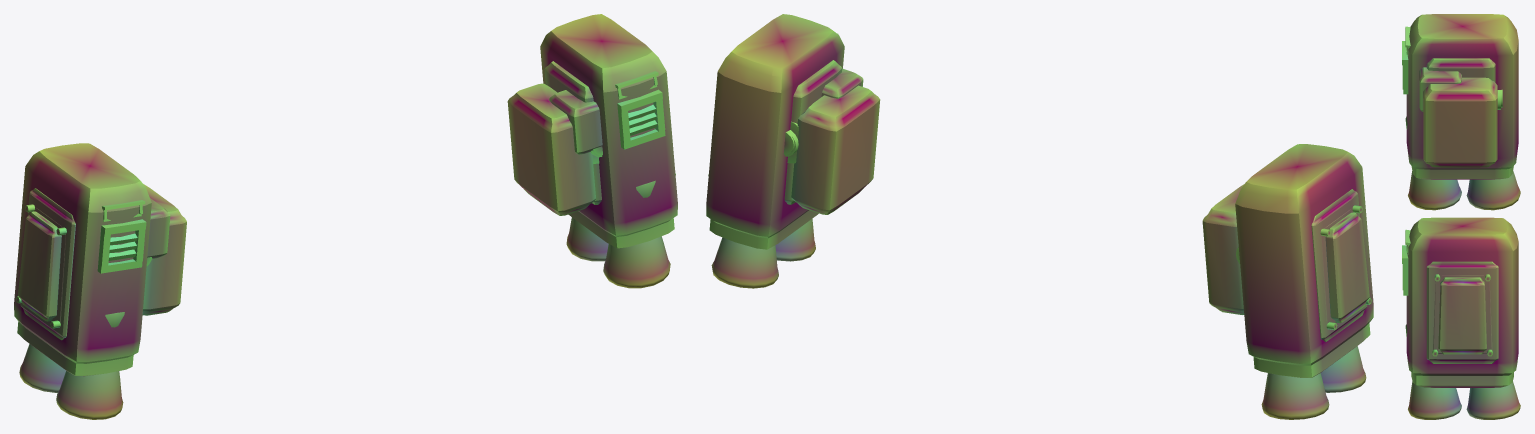
Rendered from llm_gen_leg_thrusters_072_a89f3d.glb.
3 renders of one model, left to right at view 1: azimuth 30°, elevation 25°; view 2: azimuth 150°, elevation 25°; view 3: azimuth 270°, elevation 25°, orthographic. The views are drawn at different scales.
Visible parts, largest first — view 1: hover_cowling_armor_1_barrel_metal_l, hover_cowling_armor_1_barrel_metal_r, adapter_calf_clamp_r, hover_flank_panel_5_cobalt_anodized_l, adapter_calf_clamp_l, hover_bell_fwd_7_vernier_bell_vernier_l, hover_bell_fwd_7_vernier_bell_vernier_r, adapter_sub_hover_flank_dark_4_adapter_dark_l, adapter_leg_knee_mount_dark_9_adapter_dark_r, adapter_sub_hover_manifold_dark_6_adapter_dark_l, adapter_sub_hover_intake_grille_2_dark_r, adapter_sub_hover_intake_grille_2_dark_l (+7 smaller); view 2: hover_cowling_armor_1_barrel_metal_l, hover_cowling_armor_1_barrel_metal_r, adapter_calf_clamp_r, hover_flank_panel_5_cobalt_anodized_l, adapter_calf_clamp_l, hover_bell_aft_8_vernier_bell_vernier_l, hover_bell_aft_8_vernier_bell_vernier_r, adapter_sub_hover_flank_dark_4_adapter_dark_l, hover_core_mount_0_adapter_dark_r, adapter_sub_hover_manifold_dark_6_adapter_dark_l, hover_bell_fwd_7_vernier_bell_vernier_l, adapter_sub_hover_manifold_dark_6_adapter_dark_r (+2 smaller); view 3: hover_cowling_armor_1_barrel_metal_r, hover_cowling_armor_1_barrel_metal_l, adapter_calf_clamp_l, hover_flank_panel_5_cobalt_anodized_r, adapter_sub_hover_flank_dark_4_adapter_dark_r, hover_bell_aft_8_vernier_bell_vernier_r, hover_bell_fwd_7_vernier_bell_vernier_r, hover_bell_aft_8_vernier_bell_vernier_l, hover_bell_fwd_7_vernier_bell_vernier_l, adapter_sub_hover_manifold_dark_6_adapter_dark_r, hover_core_mount_0_adapter_dark_l, adapter_sub_hover_manifold_dark_6_adapter_dark_l (+4 smaller).
Part boxes in pixels (left/top/right/bottom): hover_cowling_armor_1_barrel_metal_l: left=14, top=143, right=151, bottom=363; hover_cowling_armor_1_barrel_metal_r: left=540, top=14, right=677, bottom=236; adapter_calf_clamp_r: left=507, top=83, right=599, bottom=215; hover_flank_panel_5_cobalt_anodized_l: left=16, top=204, right=66, bottom=328; adapter_calf_clamp_l: left=142, top=184, right=186, bottom=315; hover_bell_fwd_7_vernier_bell_vernier_l: left=56, top=371, right=123, bottom=419; hover_bell_fwd_7_vernier_bell_vernier_r: left=603, top=236, right=670, bottom=288; adapter_sub_hover_flank_dark_4_adapter_dark_l: left=20, top=188, right=75, bottom=340; adapter_leg_knee_mount_dark_9_adapter_dark_r: left=549, top=90, right=602, bottom=154; adapter_sub_hover_manifold_dark_6_adapter_dark_l: left=17, top=321, right=133, bottom=376; adapter_sub_hover_intake_grille_2_dark_r: left=617, top=89, right=665, bottom=149; adapter_sub_hover_intake_grille_2_dark_l: left=97, top=219, right=146, bottom=273; hover_cowling_armor_1_barrel_metal_l: left=1235, top=144, right=1373, bottom=365; hover_cowling_armor_1_barrel_metal_r: left=706, top=14, right=844, bottom=238; adapter_calf_clamp_r: left=787, top=85, right=880, bottom=214; hover_flank_panel_5_cobalt_anodized_l: left=1320, top=205, right=1371, bottom=330; adapter_calf_clamp_l: left=1202, top=184, right=1244, bottom=314; hover_bell_aft_8_vernier_bell_vernier_l: left=1261, top=373, right=1329, bottom=419; hover_bell_aft_8_vernier_bell_vernier_r: left=711, top=237, right=778, bottom=288; adapter_sub_hover_flank_dark_4_adapter_dark_l: left=1311, top=189, right=1367, bottom=341; hover_core_mount_0_adapter_dark_r: left=784, top=60, right=842, bottom=204; adapter_sub_hover_manifold_dark_6_adapter_dark_l: left=1253, top=323, right=1370, bottom=377; hover_bell_fwd_7_vernier_bell_vernier_l: left=1321, top=346, right=1366, bottom=392; adapter_sub_hover_manifold_dark_6_adapter_dark_r: left=709, top=210, right=818, bottom=249; hover_cowling_armor_1_barrel_metal_r: left=1406, top=217, right=1518, bottom=375; hover_cowling_armor_1_barrel_metal_l: left=1406, top=14, right=1518, bottom=169; adapter_calf_clamp_l: left=1423, top=77, right=1497, bottom=167; hover_flank_panel_5_cobalt_anodized_r: left=1432, top=274, right=1492, bottom=356; adapter_sub_hover_flank_dark_4_adapter_dark_r: left=1426, top=261, right=1498, bottom=363; hover_bell_aft_8_vernier_bell_vernier_r: left=1466, top=381, right=1520, bottom=419; hover_bell_fwd_7_vernier_bell_vernier_r: left=1408, top=381, right=1461, bottom=419; hover_bell_aft_8_vernier_bell_vernier_l: left=1466, top=170, right=1520, bottom=210; hover_bell_fwd_7_vernier_bell_vernier_l: left=1408, top=171, right=1461, bottom=210; adapter_sub_hover_manifold_dark_6_adapter_dark_r: left=1411, top=372, right=1513, bottom=387; hover_core_mount_0_adapter_dark_l: left=1426, top=58, right=1495, bottom=82; adapter_sub_hover_manifold_dark_6_adapter_dark_l: left=1411, top=166, right=1513, bottom=179.
Size of the model in its own units: 86.05 by 29.84 by 17.61.
